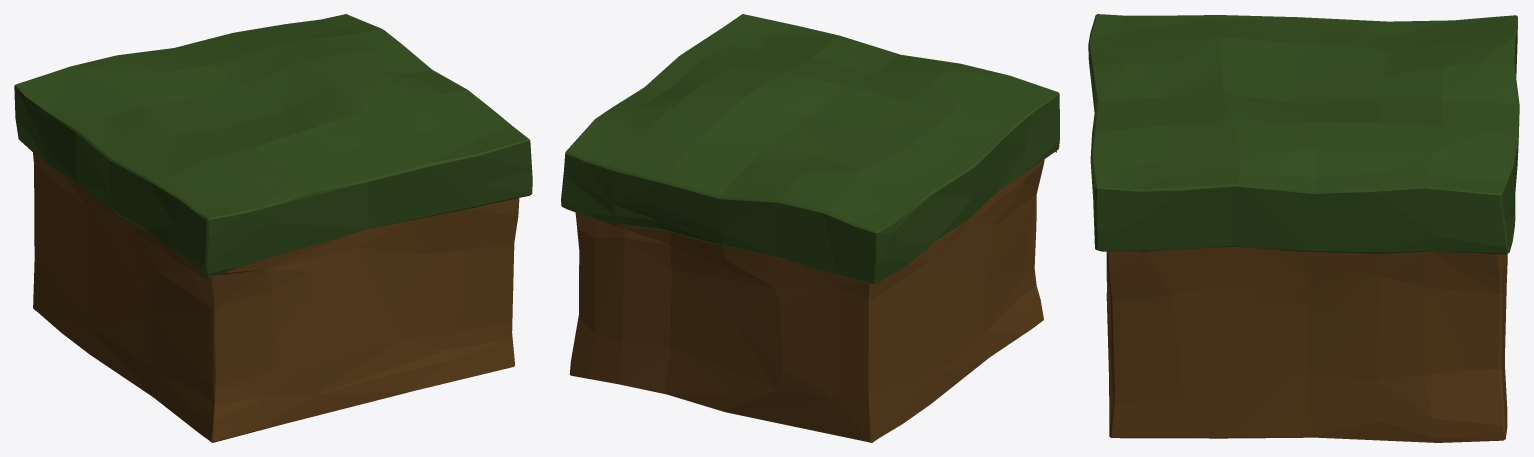
The model's file is tile_grass.min.gltf.
3 views of the same model, side by side, from view 1: azimuth 30°, elevation 25°; view 2: azimuth 150°, elevation 25°; view 3: azimuth 270°, elevation 25° (orthographic). The views are drawn at different scales.
Visible parts, largest first — view 1: CENTERED.022; view 2: CENTERED.022; view 3: CENTERED.022.
Part boxes in pixels (bbox=[...]): CENTERED.022: bbox=[14, 14, 532, 442]; CENTERED.022: bbox=[561, 14, 1059, 442]; CENTERED.022: bbox=[1088, 14, 1519, 442].
Bounding box in the file's own units: 1.07 × 0.7534 × 1.09.
